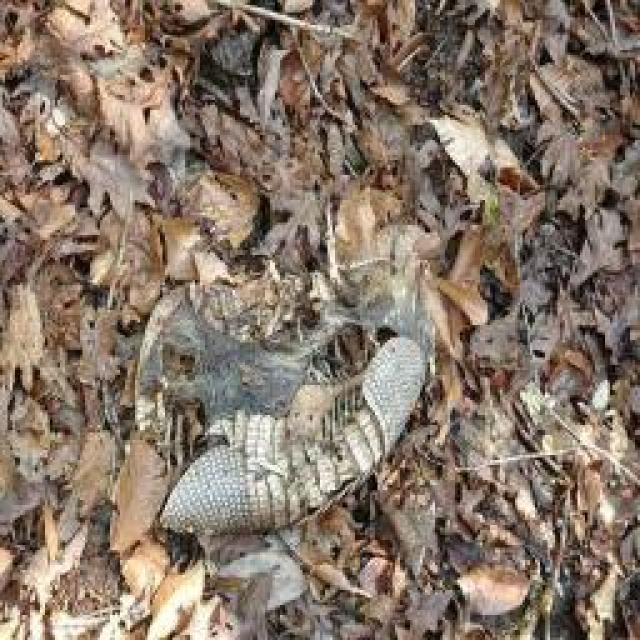pig: (155, 330, 427, 552)
